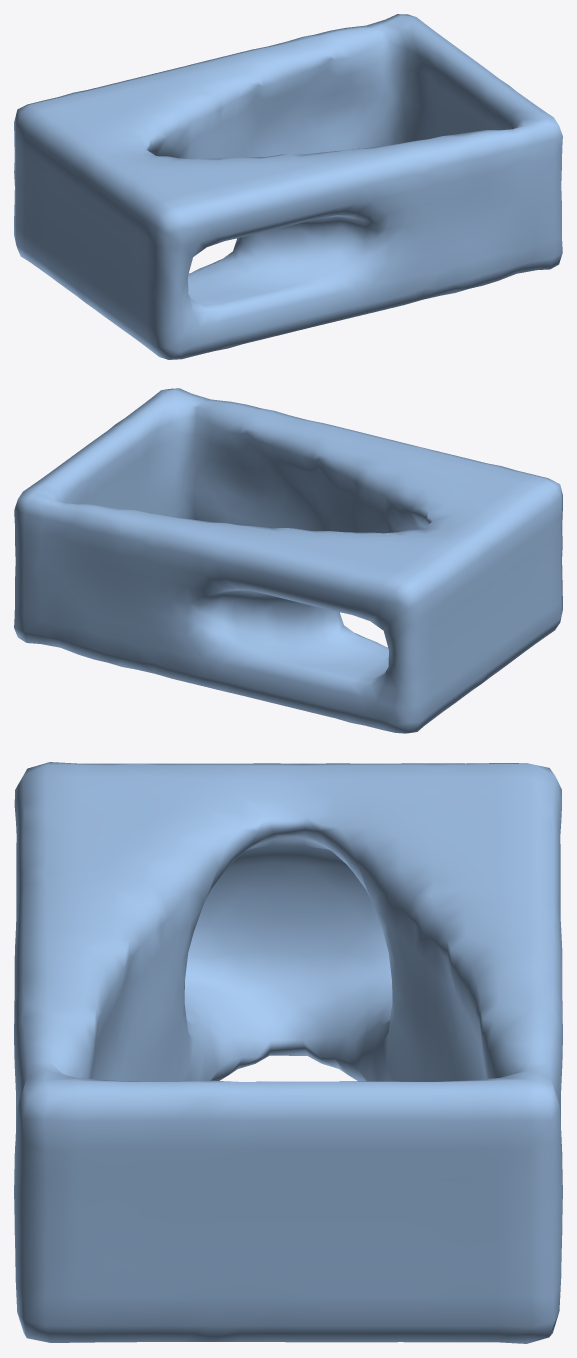
File: topopt_preview.glb
The picture shows the model from 3 angles, top to bottom: view 1: azimuth 30°, elevation 25°; view 2: azimuth 150°, elevation 25°; view 3: azimuth 270°, elevation 25°; orthographic projection. The views are drawn at different scales.
Parts seen in each view (by area): view 1: topopt; view 2: topopt; view 3: topopt.
Part boxes in pixels (x1,y1,x2,y2): topopt: (14,14,562,359); topopt: (14,388,562,733); topopt: (14,762,562,1343).
Bounding box in the file's own units: 0.0251 × 0.00908 × 0.0171.
